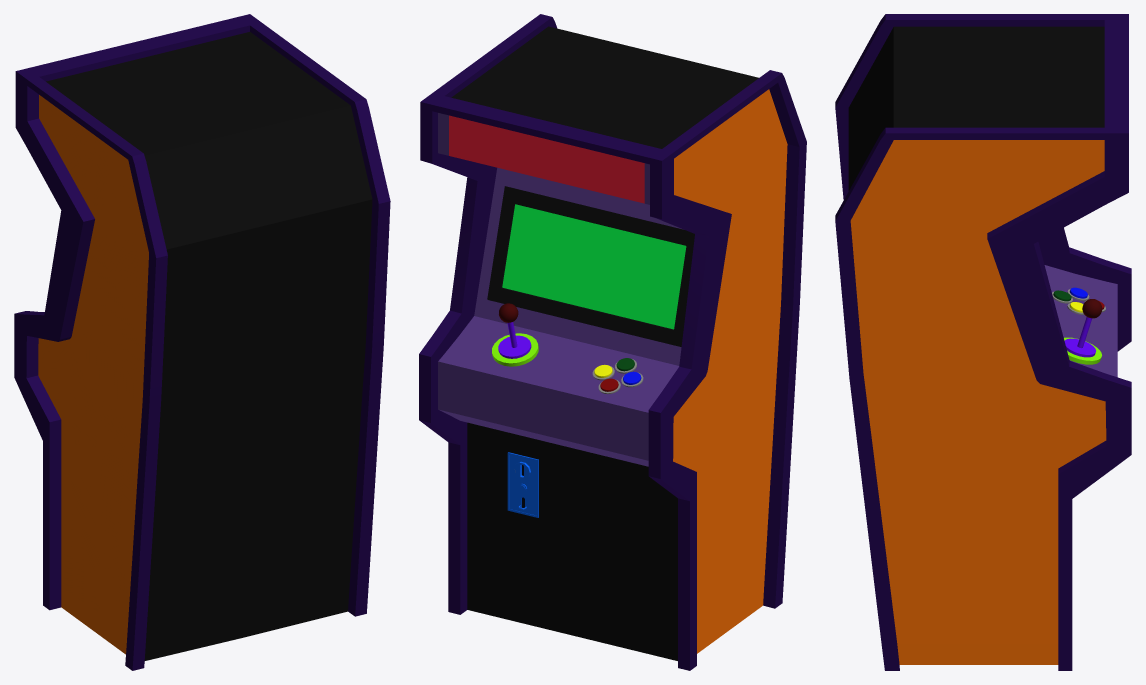
The model's file is sm_arcade.fbx.
The picture shows the model from 3 angles, left to right: view 1: azimuth 30°, elevation 25°; view 2: azimuth 150°, elevation 25°; view 3: azimuth 270°, elevation 25°; orthographic projection. The views are drawn at different scales.
Parts seen in each view (by area): view 1: arcademachine_low (×3); view 2: arcademachine_low (×5), screen_low, coinslot_low, joystick_low (×2); view 3: arcademachine_low (×4), joystick_low.
Boxes of the visible parts, x1,y1,x2,y2 form: arcademachine_low (×3): (14,14,390,670); arcademachine_low (×5): (419,14,806,670); screen_low: (502,204,686,329); coinslot_low: (507,452,538,517); joystick_low (×2): (492,322,538,366); arcademachine_low (×4): (835,14,1131,670); joystick_low: (1064,317,1095,357).
Bounding box in the file's own units: 97.84 × 205 × 103.
